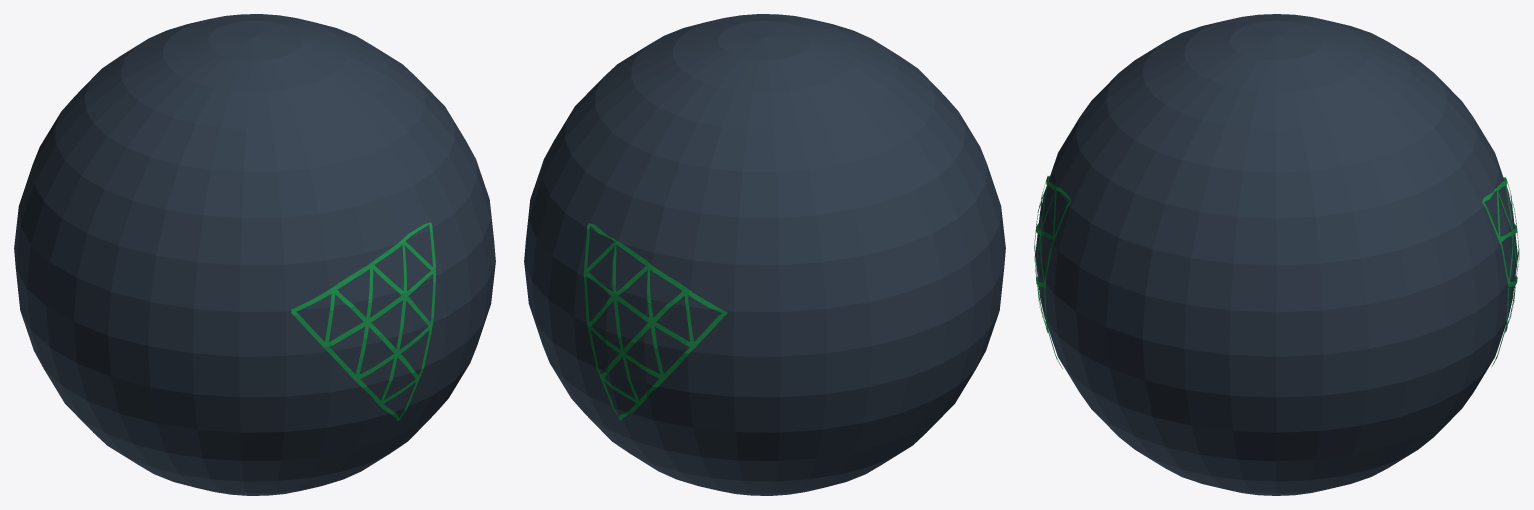
File: three.gltf
3 views of the same model, side by side, from view 1: azimuth 30°, elevation 25°; view 2: azimuth 150°, elevation 25°; view 3: azimuth 270°, elevation 25° (orthographic).
Visible parts, largest first — view 1: Sphere.001, 584830fecef1014c0b5e4aa2.001; view 2: Sphere.001, 584830fecef1014c0b5e4aa2; view 3: Sphere.001, 584830fecef1014c0b5e4aa2.001, 584830fecef1014c0b5e4aa2.
Part boxes in pixels (x1,y1,x2,y2): Sphere.001: [14, 14, 495, 495]; 584830fecef1014c0b5e4aa2.001: [291, 222, 436, 421]; Sphere.001: [524, 14, 1005, 495]; 584830fecef1014c0b5e4aa2: [583, 223, 727, 420]; Sphere.001: [1035, 14, 1517, 495]; 584830fecef1014c0b5e4aa2.001: [1034, 176, 1071, 368]; 584830fecef1014c0b5e4aa2: [1482, 177, 1519, 366].
Size of the model in its own units: 2 by 2 by 2.01.
2 materials, 1 textured.
